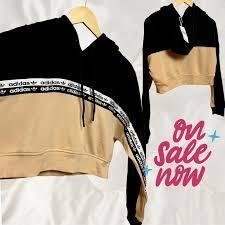sweater: (0, 16, 156, 225), (133, 7, 225, 115)
